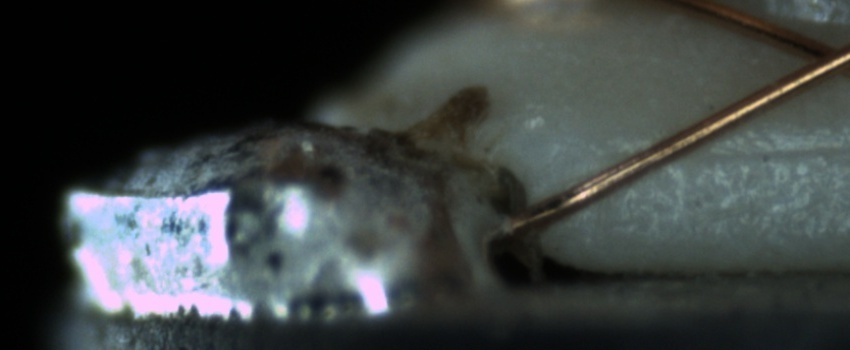CL: (780, 27, 848, 89)
DL: (634, 122, 849, 182)
